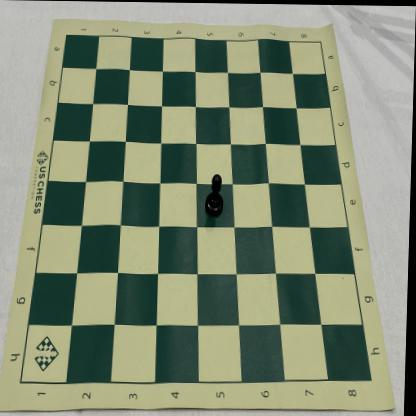black-pawn: (206, 174, 226, 216)
